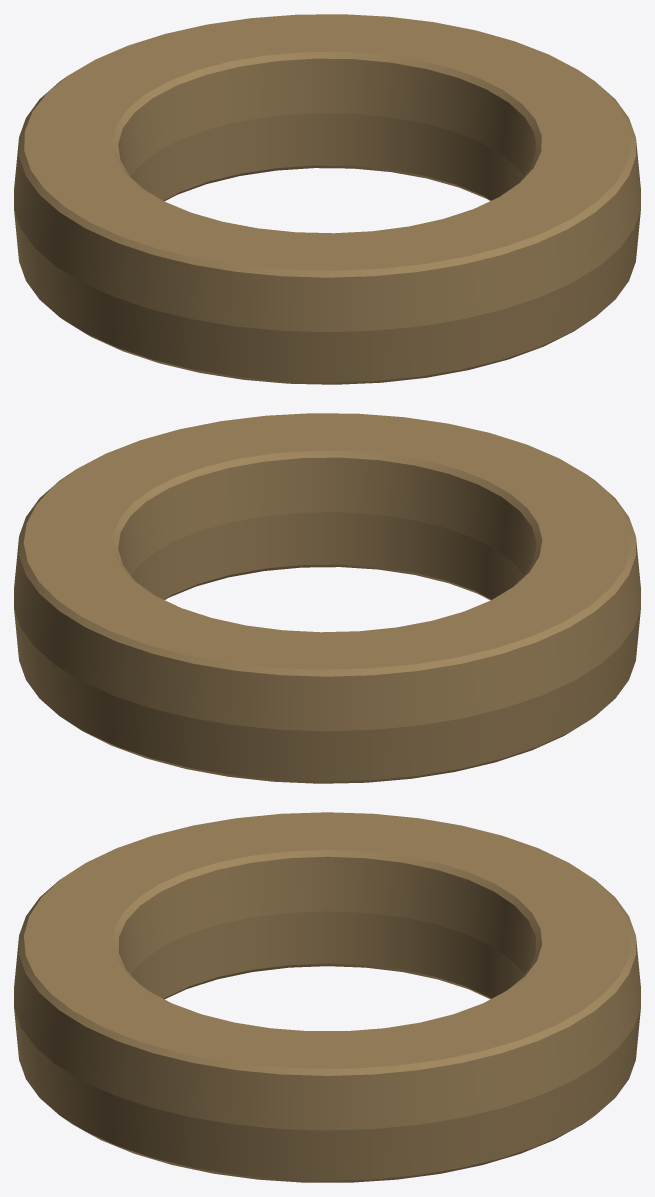
File: ring_black.glb
The picture shows the model from 3 angles, top to bottom: view 1: azimuth 30°, elevation 25°; view 2: azimuth 150°, elevation 25°; view 3: azimuth 270°, elevation 25°; orthographic projection.
Parts seen in each view (by area): view 1: Node1; view 2: Node1; view 3: Node1.
Boxes of the visible parts, x1,y1,x2,y2 form: Node1: (14,14,640,384); Node1: (14,413,640,783); Node1: (14,812,640,1182).
Bounding box in the file's own units: 1.25 × 0.25 × 1.25.
